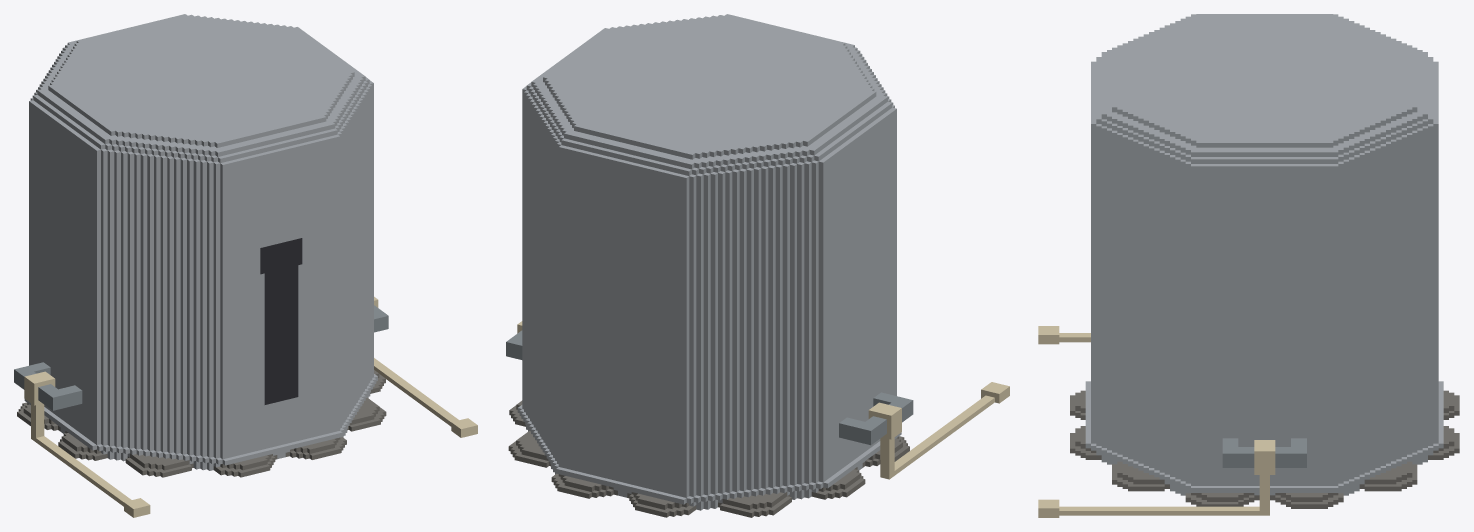
The model's file is stockpot_helmet.glb.
The picture shows the model from 3 angles, left to right: view 1: azimuth 30°, elevation 25°; view 2: azimuth 150°, elevation 25°; view 3: azimuth 270°, elevation 25°; orthographic projection. The views are drawn at different scales.
Visible parts, largest first — view 1: stockpot_helmet:compound; view 2: stockpot_helmet:compound; view 3: stockpot_helmet:compound.
Boxes of the visible parts, left/top/right/bottom form: stockpot_helmet:compound: left=14, top=14, right=477, bottom=517; stockpot_helmet:compound: left=506, top=14, right=1009, bottom=517; stockpot_helmet:compound: left=1038, top=14, right=1459, bottom=517.
Size of the model in its own units: 0.328 by 0.292 by 0.32.
